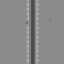dust: (47, 17, 52, 21), (25, 20, 28, 24)
